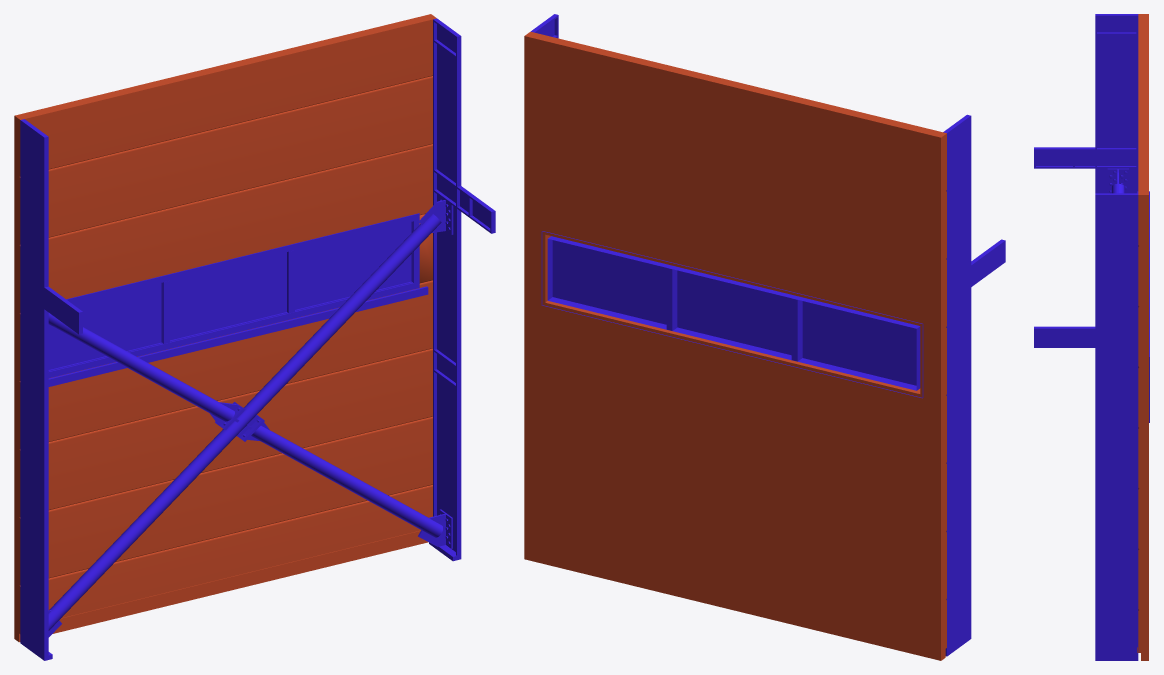
File: Wall_B.glb
The picture shows the model from 3 angles, left to right: view 1: azimuth 30°, elevation 25°; view 2: azimuth 150°, elevation 25°; view 3: azimuth 270°, elevation 25°; orthographic projection. The views are drawn at different scales.
Visible parts, largest first — view 1: Wall_B; view 2: Wall_B; view 3: Wall_B.
Part boxes in pixels (box(x1,y1,x2,y2)): Wall_B: box(14, 14, 495, 660); Wall_B: box(524, 14, 1005, 660); Wall_B: box(1034, 14, 1149, 660).
Size of the model in its own units: 10 by 12 by 2.7.
